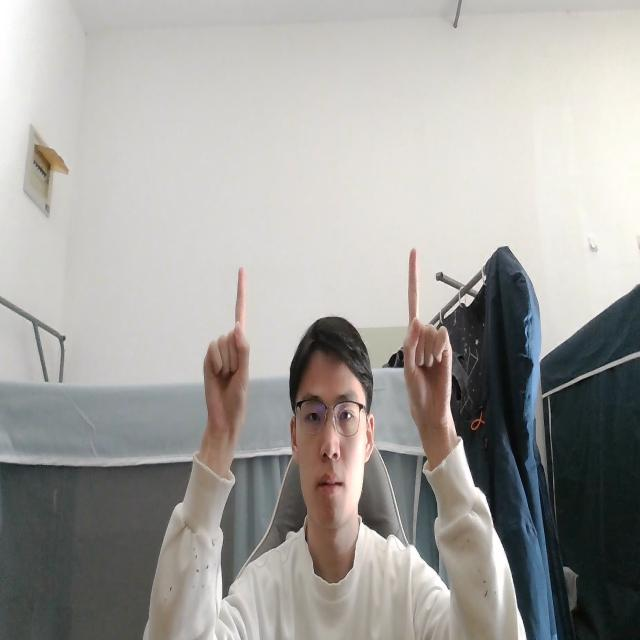one: (399, 240, 454, 449), (201, 258, 253, 456)
